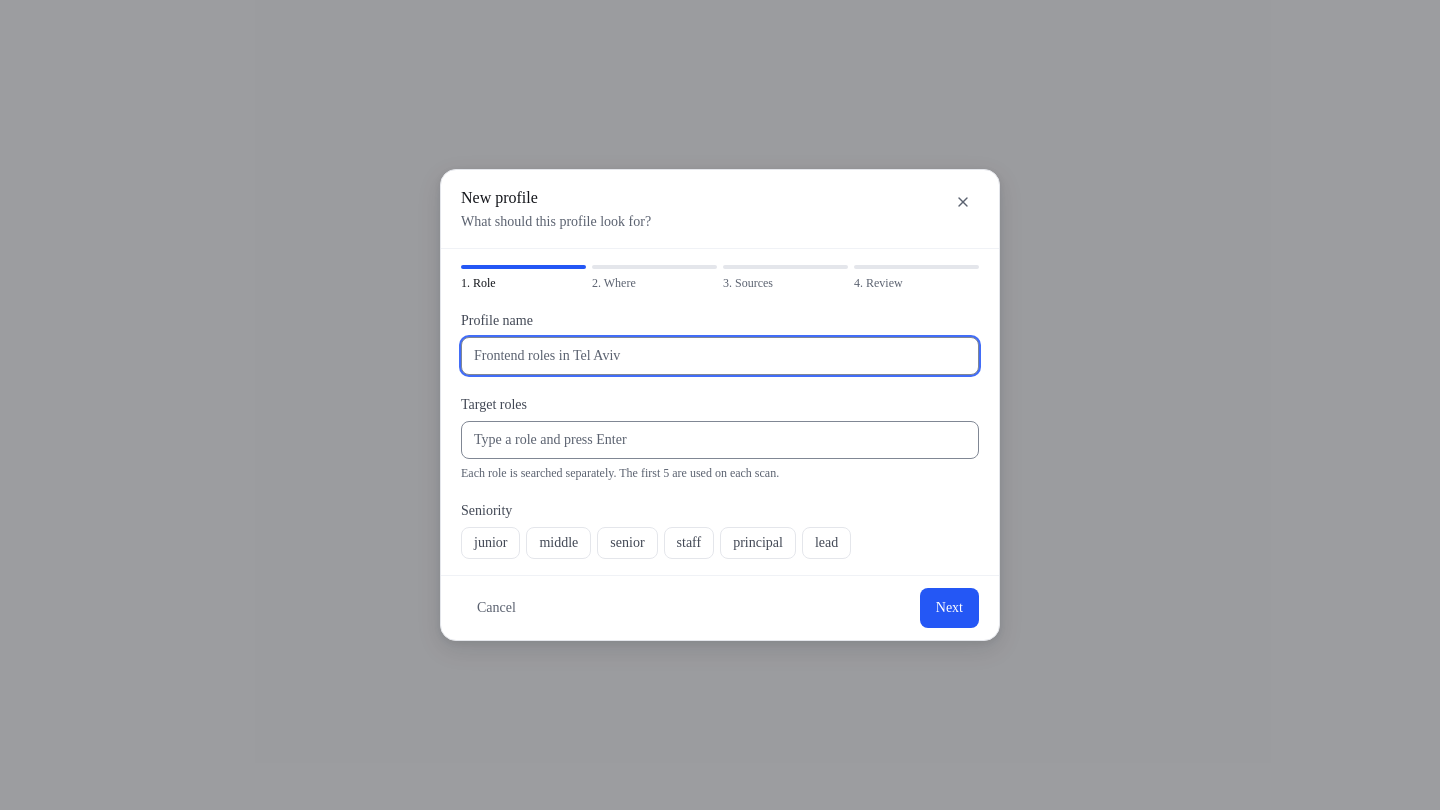
Test: ProfileFormDialog create › blocks Next without a name and shows the error on step 1
Step 1. Click the button "Next" → x=949, y=608, box [920,588,979,628]
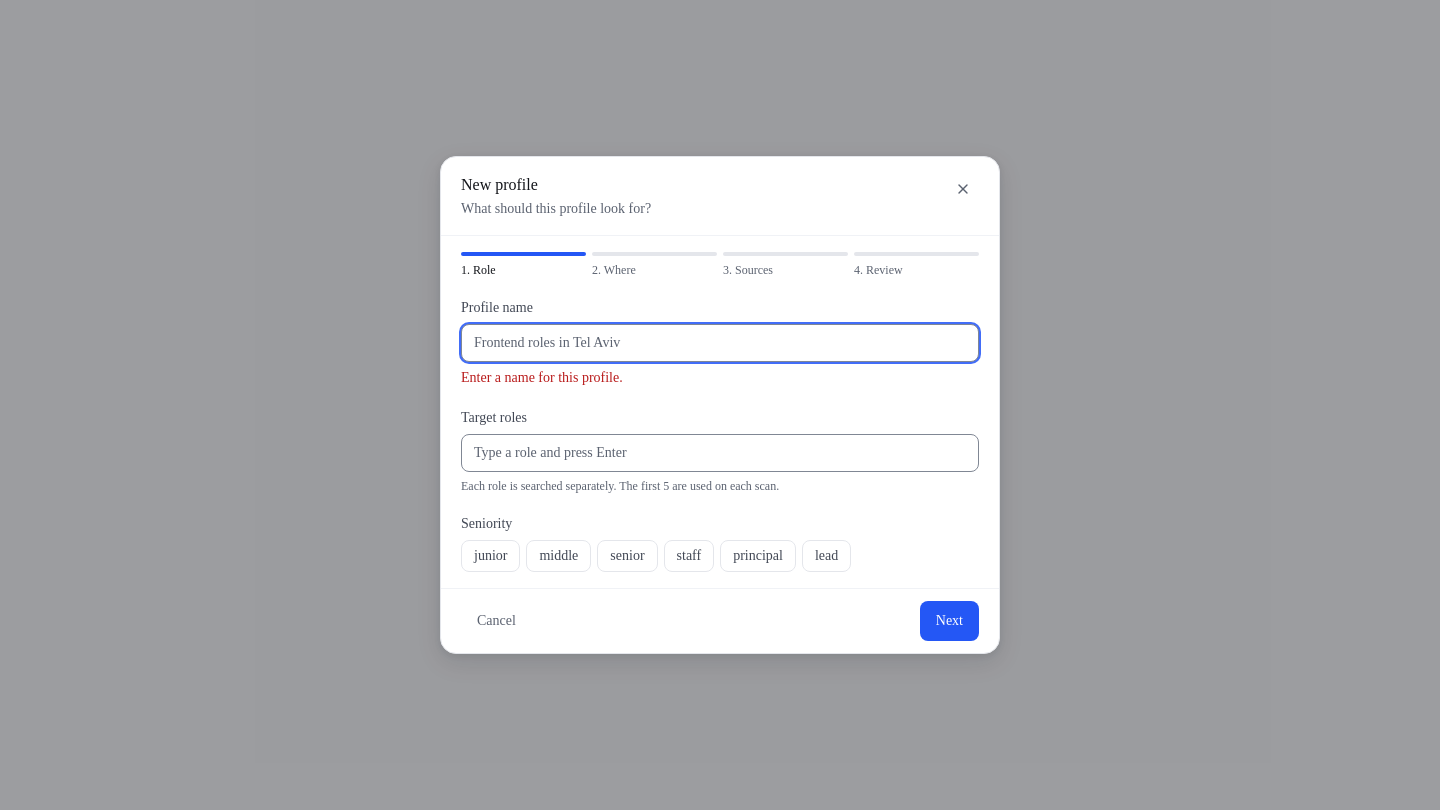
Now the message reads "Enter a name for this profile.", box [461,370,623,385]
